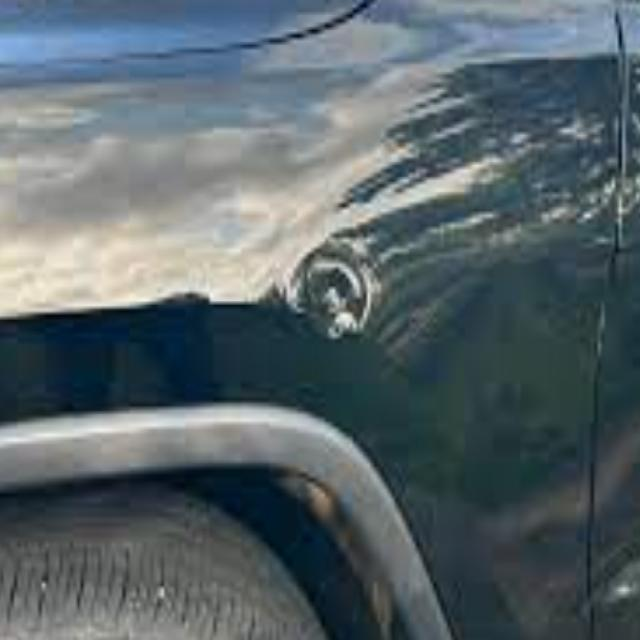dents: (282, 246, 391, 354)
